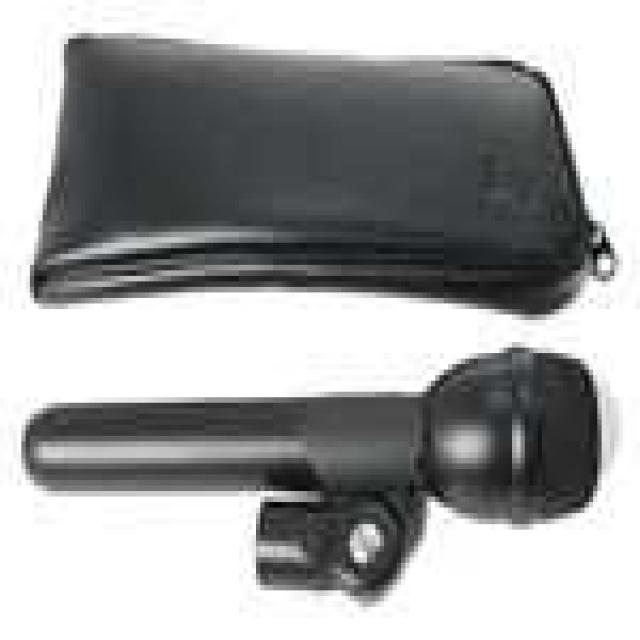microphone: (21, 338, 619, 528)
